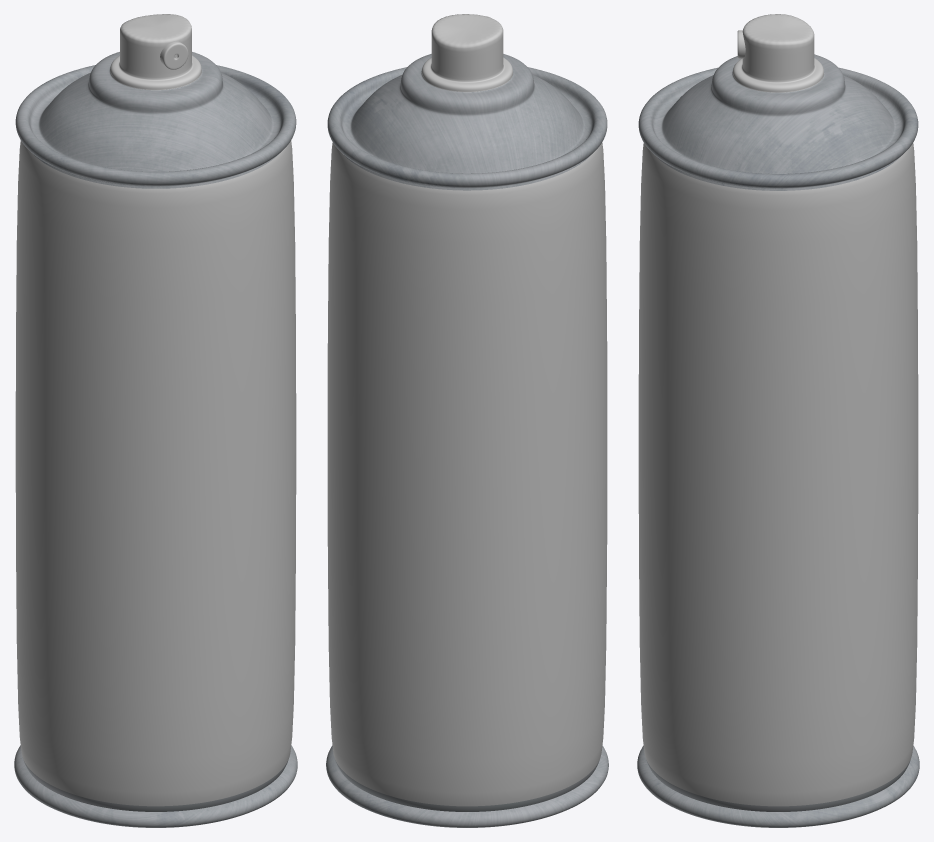
File: spraycan.fbx
The picture shows the model from 3 angles, left to right: view 1: azimuth 30°, elevation 25°; view 2: azimuth 150°, elevation 25°; view 3: azimuth 270°, elevation 25°; orthographic projection.
Parts seen in each view (by area): view 1: spraycan; view 2: spraycan; view 3: spraycan.
Boxes of the visible parts, left/top/right/bottom form: spraycan: left=14, top=14, right=297, bottom=827; spraycan: left=326, top=14, right=608, bottom=827; spraycan: left=637, top=14, right=919, bottom=827.
Bounding box in the file's own units: 155 × 450 × 155.
